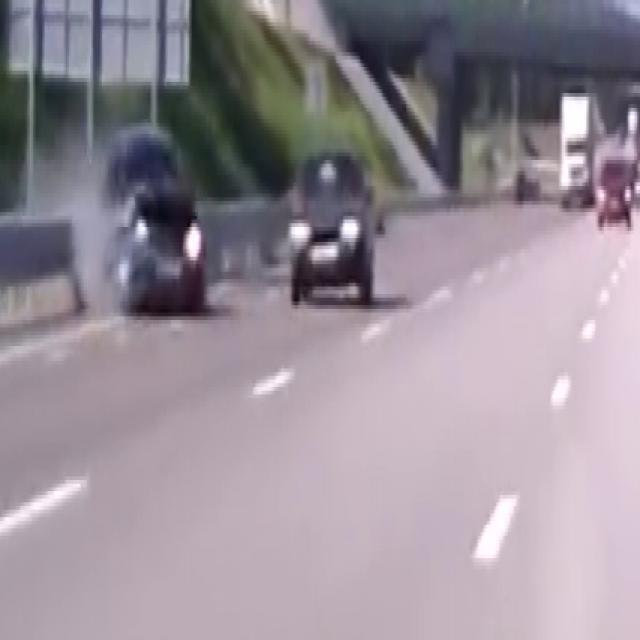accident: (83, 113, 224, 311)
